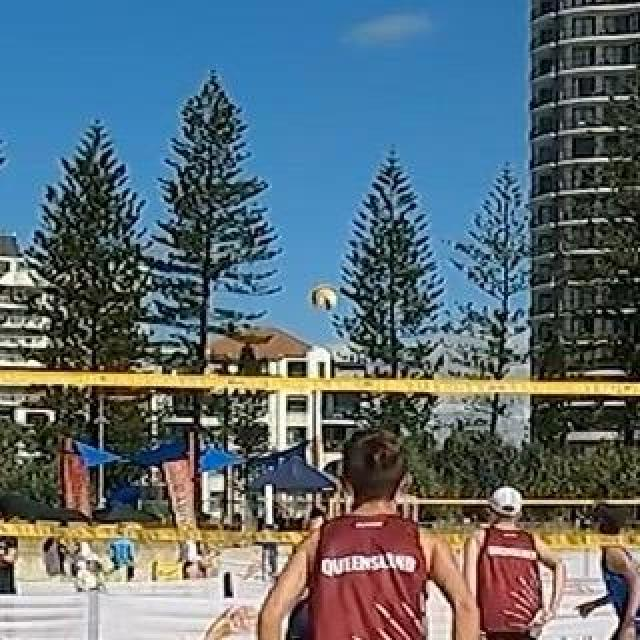volleyball: (313, 285, 339, 311)
